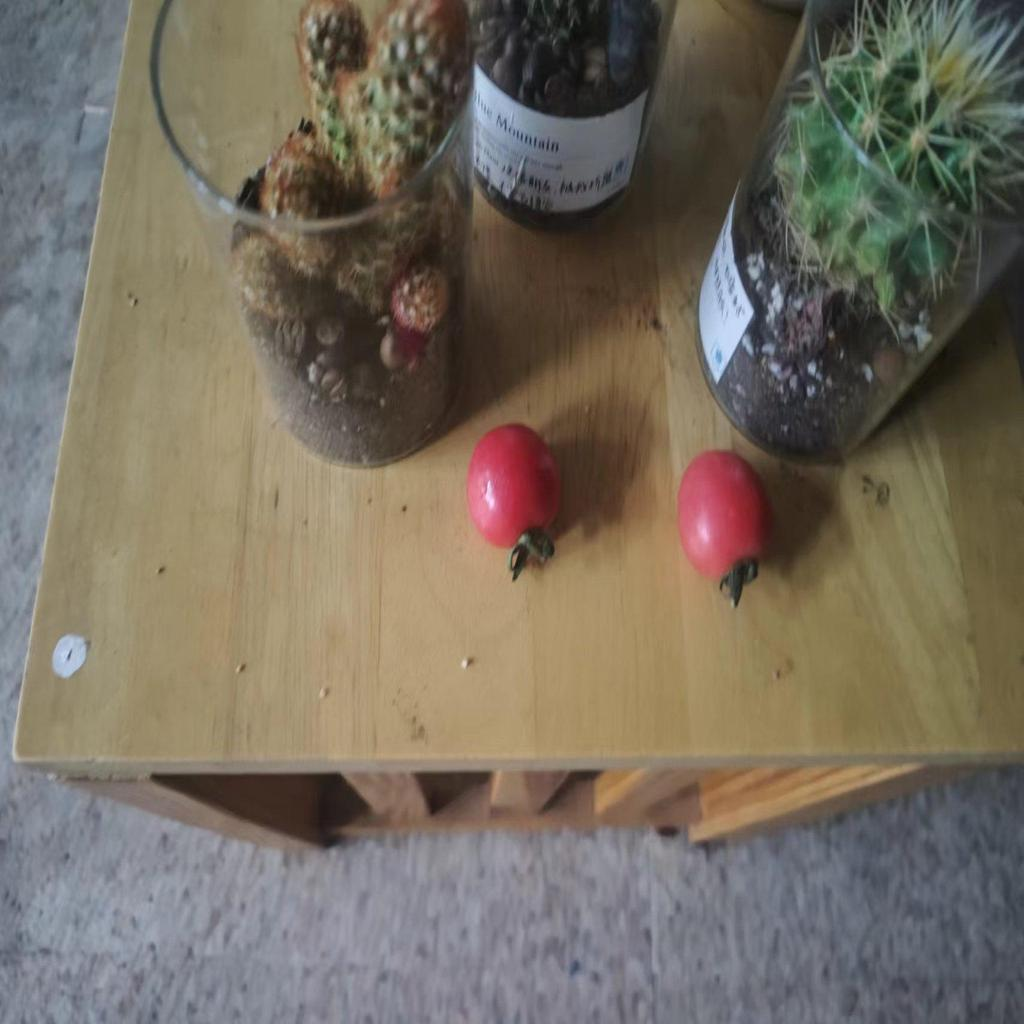tomato: (673, 442, 768, 602), (471, 430, 561, 552)
